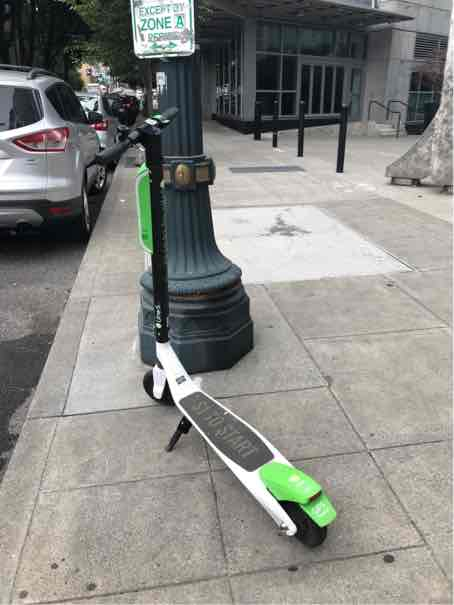scooter: (83, 101, 352, 555)
